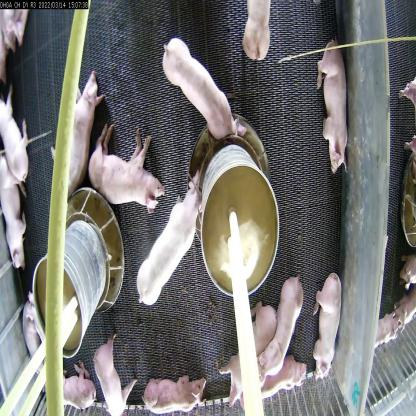Pig: (161, 36, 242, 154), (139, 179, 197, 316), (86, 128, 162, 219), (49, 76, 102, 191), (317, 36, 352, 172), (308, 270, 345, 383), (225, 301, 273, 388), (0, 156, 32, 272), (262, 280, 300, 377), (253, 350, 310, 414), (144, 362, 208, 415), (0, 92, 32, 176), (96, 333, 128, 415), (46, 365, 89, 415), (243, 0, 274, 67)
